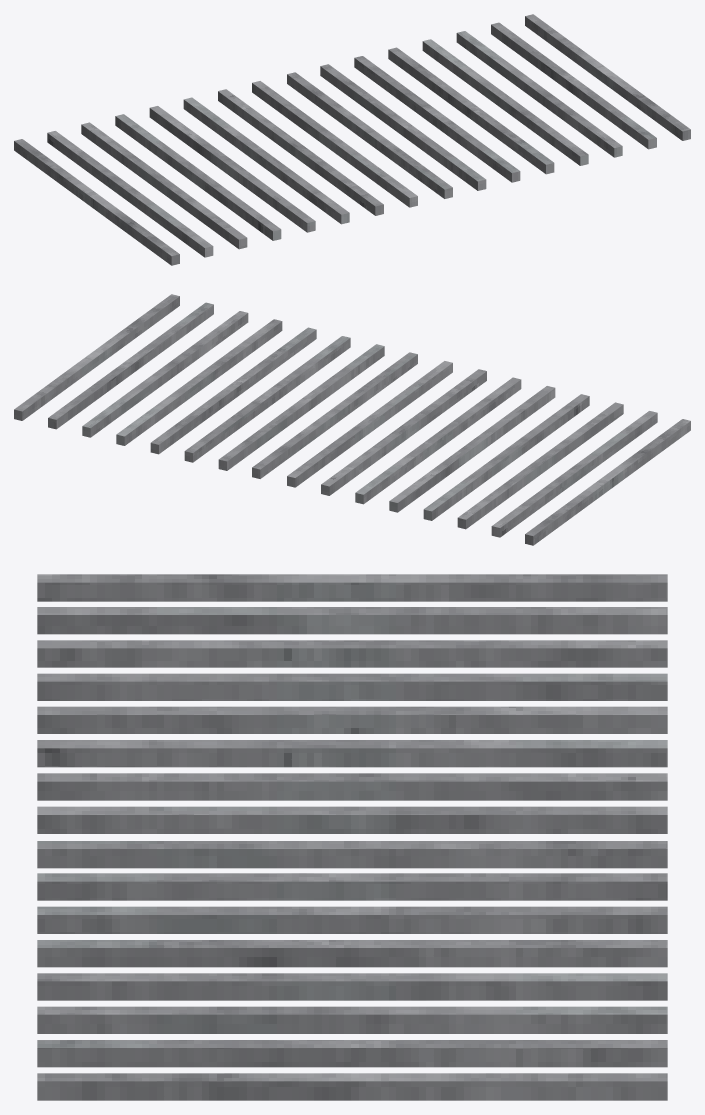
The model's file is Factory_Walkway_1x2m.glb.
3 views of the same model, one above another, from view 1: azimuth 30°, elevation 25°; view 2: azimuth 150°, elevation 25°; view 3: azimuth 270°, elevation 25° (orthographic). The views are drawn at different scales.
Parts seen in each view (by area): view 1: Factory_Walkway_1x2m; view 2: Factory_Walkway_1x2m; view 3: Factory_Walkway_1x2m.
Boxes of the visible parts, left/top/right/bottom form: Factory_Walkway_1x2m: left=14, top=14, right=690, bottom=265; Factory_Walkway_1x2m: left=14, top=294, right=690, bottom=545; Factory_Walkway_1x2m: left=37, top=574, right=667, bottom=1100.
Bounding box in the file's own units: 1.9 × 0.0335 × 1.
1 material, 1 textured.
